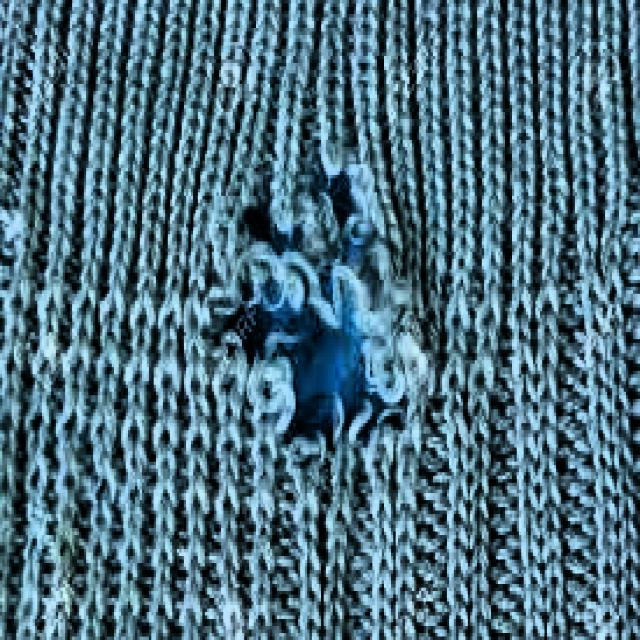Hole: (192, 129, 462, 538)
